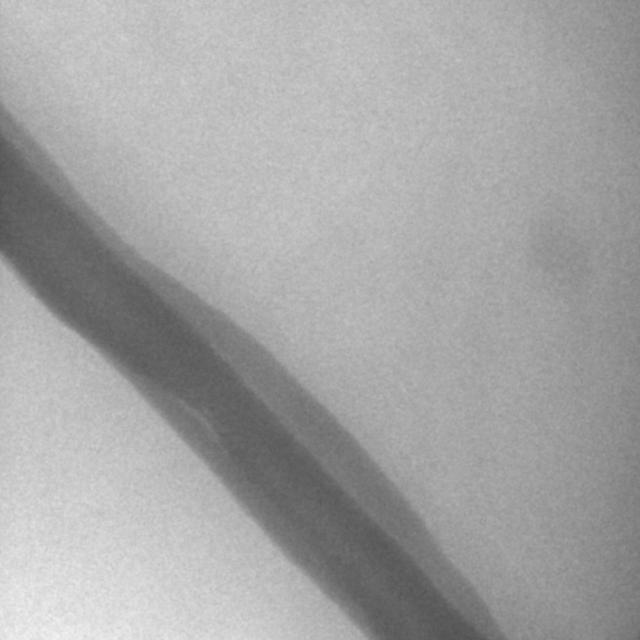unfused: (169, 396, 223, 447)
